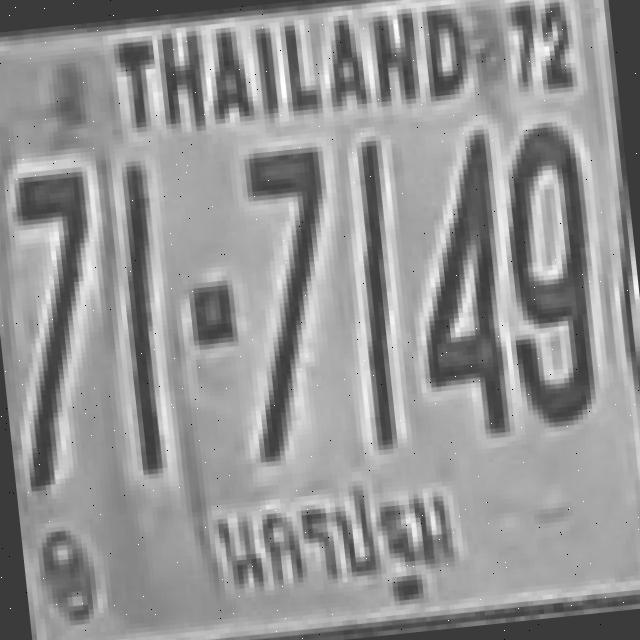0: (492, 117, 592, 319)
7: (238, 144, 334, 322), (10, 166, 95, 330)
9: (498, 219, 598, 425)
NakhonPathom: (199, 463, 475, 640)
